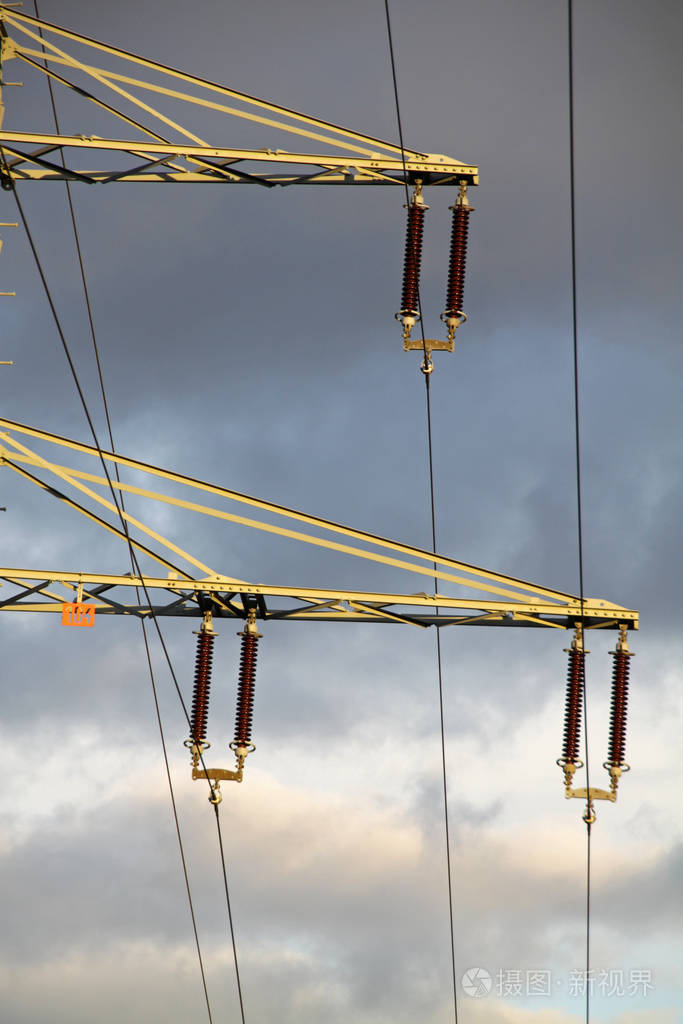insulator: (598, 651, 636, 771), (554, 650, 592, 768), (230, 633, 263, 748), (184, 632, 215, 748), (395, 208, 429, 311), (442, 206, 473, 317)
